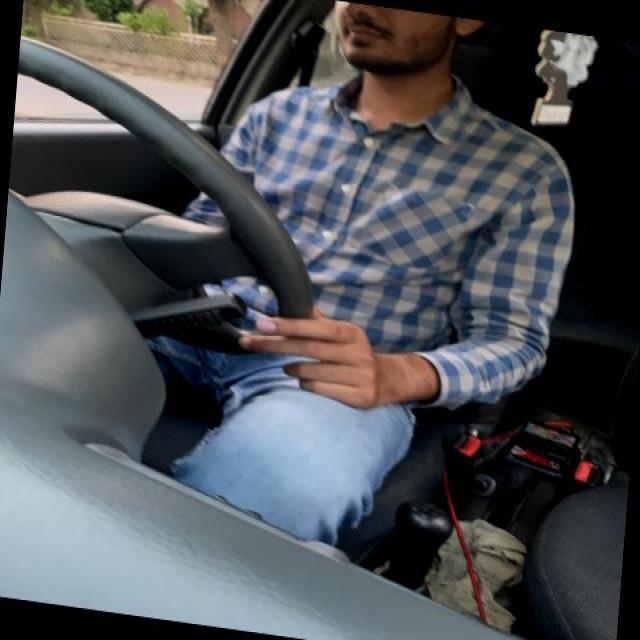no-seatbelt: (304, 68, 506, 408)
